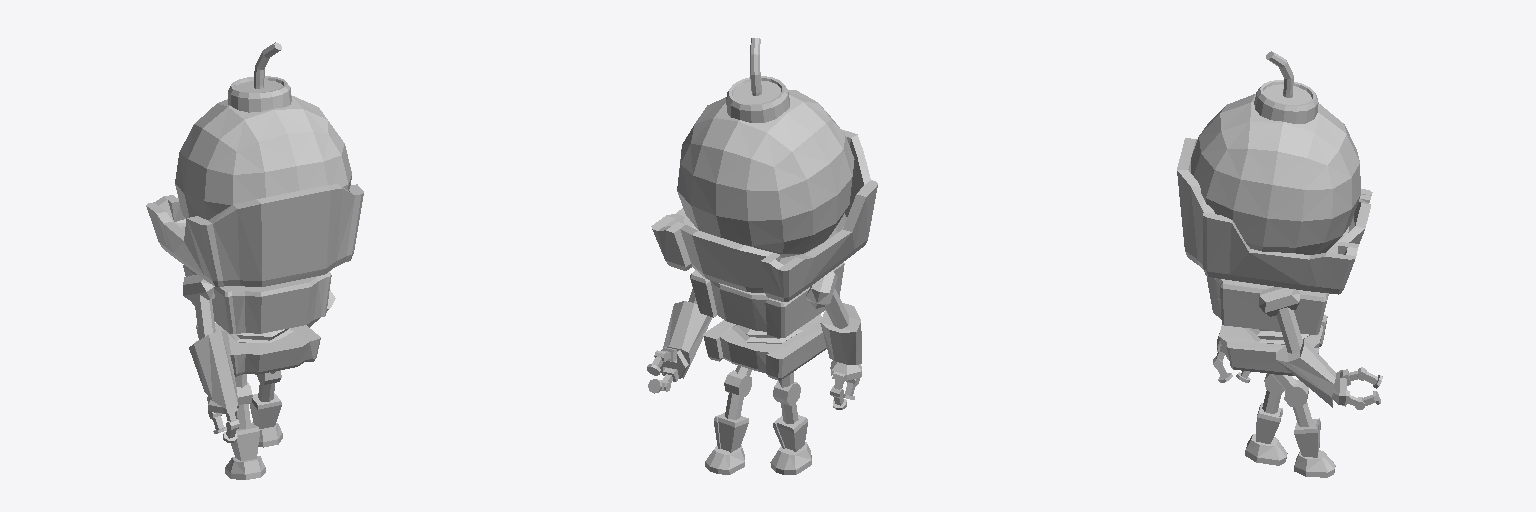
3 views of the same model, side by side, from view 1: azimuth 30°, elevation 25°; view 2: azimuth 150°, elevation 25°; view 3: azimuth 270°, elevation 25° (orthographic).
Visible parts, largest first — view 1: bombot body top polySurface20 polySurface18, bomb bombot, bombot body top, bombot body top arms polySurface51 arm_left polySurface38 polySu, bombot body bottom, bombot body bottom polySurface13 leg_Right polySurface11 polySur, bomb bombot bomb, bombot body bottom polySurface13 leg_left polySurface5 polySurfa, bombot body top arms polySurface51 arm_left polySurface38, bombot body top arms polySurface51 arm_left, bombot body, bomb bombot bomb wick; view 2: bomb bombot, bombot body top polySurface20 polySurface18, bombot body top, bombot body bottom, bombot body top arms polySurface51 arm_left polySurface38 polySu, bomb bombot bomb, bombot body bottom polySurface13 leg_left polySurface5 polySurfa, bombot body bottom polySurface13 leg_Right polySurface11 polySur, bombot body top arm_right arms polySurface23 polySurface35, bombot body top arm_right arms polySurface23 polySurface35 polyS, bombot body top arms polySurface51 arm_left, bomb bombot bomb wick (+3 smaller); view 3: bomb bombot, bombot body top polySurface20 polySurface18, bombot body top, bombot body bottom, bomb bombot bomb, bombot body bottom polySurface13 leg_left polySurface5 polySurfa, bombot body bottom polySurface13 leg_Right polySurface11 polySur, bombot body top arm_right arms polySurface23 polySurface35, bombot body top arm_right arms polySurface23 polySurface35 polyS, bombot body top arm_right arms, bombot body top arm_right arms polySurface23.
Part boxes in pixels (x1,y1,x2,y2): bombot body top polySurface20 polySurface18: (146,184,363,286); bomb bombot: (175,95,351,219); bombot body top: (183,265,331,333); bombot body top arms polySurface51 arm_left polySurface38 polySu: (189,330,239,442); bombot body bottom: (196,323,320,376); bombot body bottom polySurface13 leg_Right polySurface11 polySur: (225,404,265,479); bomb bombot bomb: (228,76,291,112); bombot body bottom polySurface13 leg_left polySurface5 polySurfa: (250,383,282,447); bombot body top arms polySurface51 arm_left polySurface38: (194,294,215,339); bombot body top arms polySurface51 arm_left: (183,275,214,301); bombot body: (222,328,293,342); bomb bombot bomb wick: (254,42,281,88); bomb bombot: (677,90,854,257); bombot body top polySurface20 polySurface18: (651,129,877,301); bombot body top: (690,262,844,337); bombot body bottom: (703,314,826,380); bombot body top arms polySurface51 arm_left polySurface38 polySu: (820,303,861,409); bomb bombot bomb: (726,76,789,122); bombot body bottom polySurface13 leg_left polySurface5 polySurfa: (705,393,748,474); bombot body bottom polySurface13 leg_Right polySurface11 polySur: (770,403,811,474); bombot body top arm_right arms polySurface23 polySurface35: (663,301,712,378); bombot body top arm_right arms polySurface23 polySurface35 polyS: (647,347,688,393); bombot body top arms polySurface51 arm_left: (806,270,837,308); bomb bombot bomb wick: (750,38,761,95); bomb bombot: (1191,94,1360,254); bombot body top polySurface20 polySurface18: (1177,138,1372,294); bombot body top: (1207,277,1328,334); bombot body bottom: (1219,315,1327,375); bomb bombot bomb: (1254,80,1318,123); bombot body bottom polySurface13 leg_left polySurface5 polySurfa: (1293,402,1335,477); bombot body bottom polySurface13 leg_Right polySurface11 polySur: (1245,390,1287,465); bombot body top arm_right arms polySurface23 polySurface35: (1276,339,1335,407); bombot body top arm_right arms polySurface23 polySurface35 polyS: (1332,367,1382,409); bombot body top arm_right arms: (1259,287,1300,316); bombot body top arm_right arms polySurface23: (1277,307,1302,353).
Size of the model in its own units: 4.23 by 10.22 by 4.51.